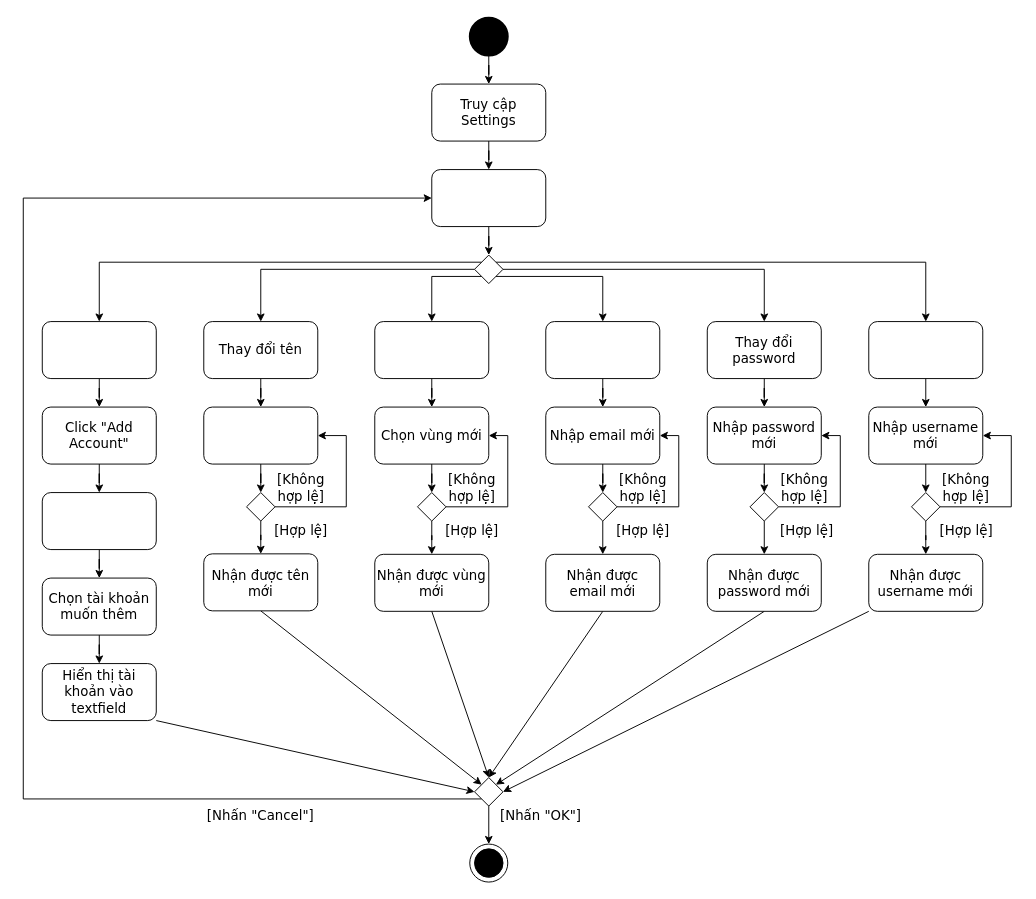
This 1036x899 diagram has some shape labels left out. The shapes that lost their labels are listed below. From the top down, each one's centre as x and y in pixels, then its label:
At (x=488, y=198): "Hiển thị danh mục các tùy chọn".
At (x=98, y=350): "Thay đổi Google account".
At (x=431, y=350): "Thay đổi vùng".
At (x=602, y=350): "Thay đổi email".
At (x=925, y=350): "Thay đổi username".
At (x=260, y=435): "Nhập tên mới".
At (x=98, y=521): "Hiện hộp thoại gợi ý".
